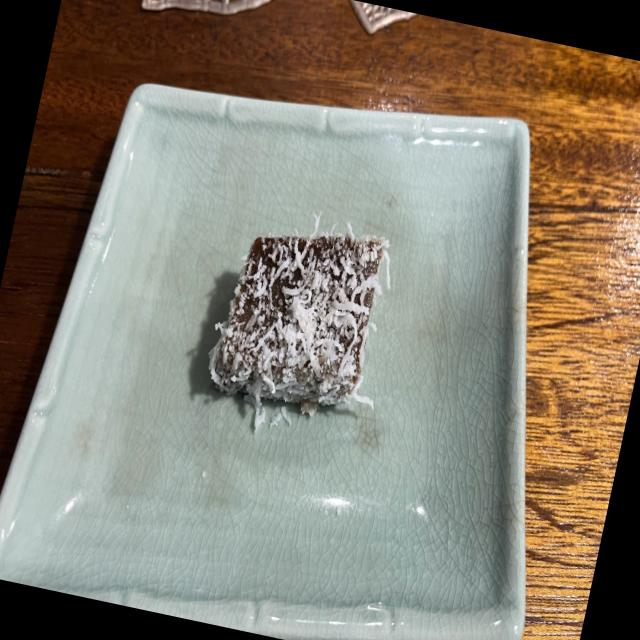kaswi: (209, 217, 389, 427)
